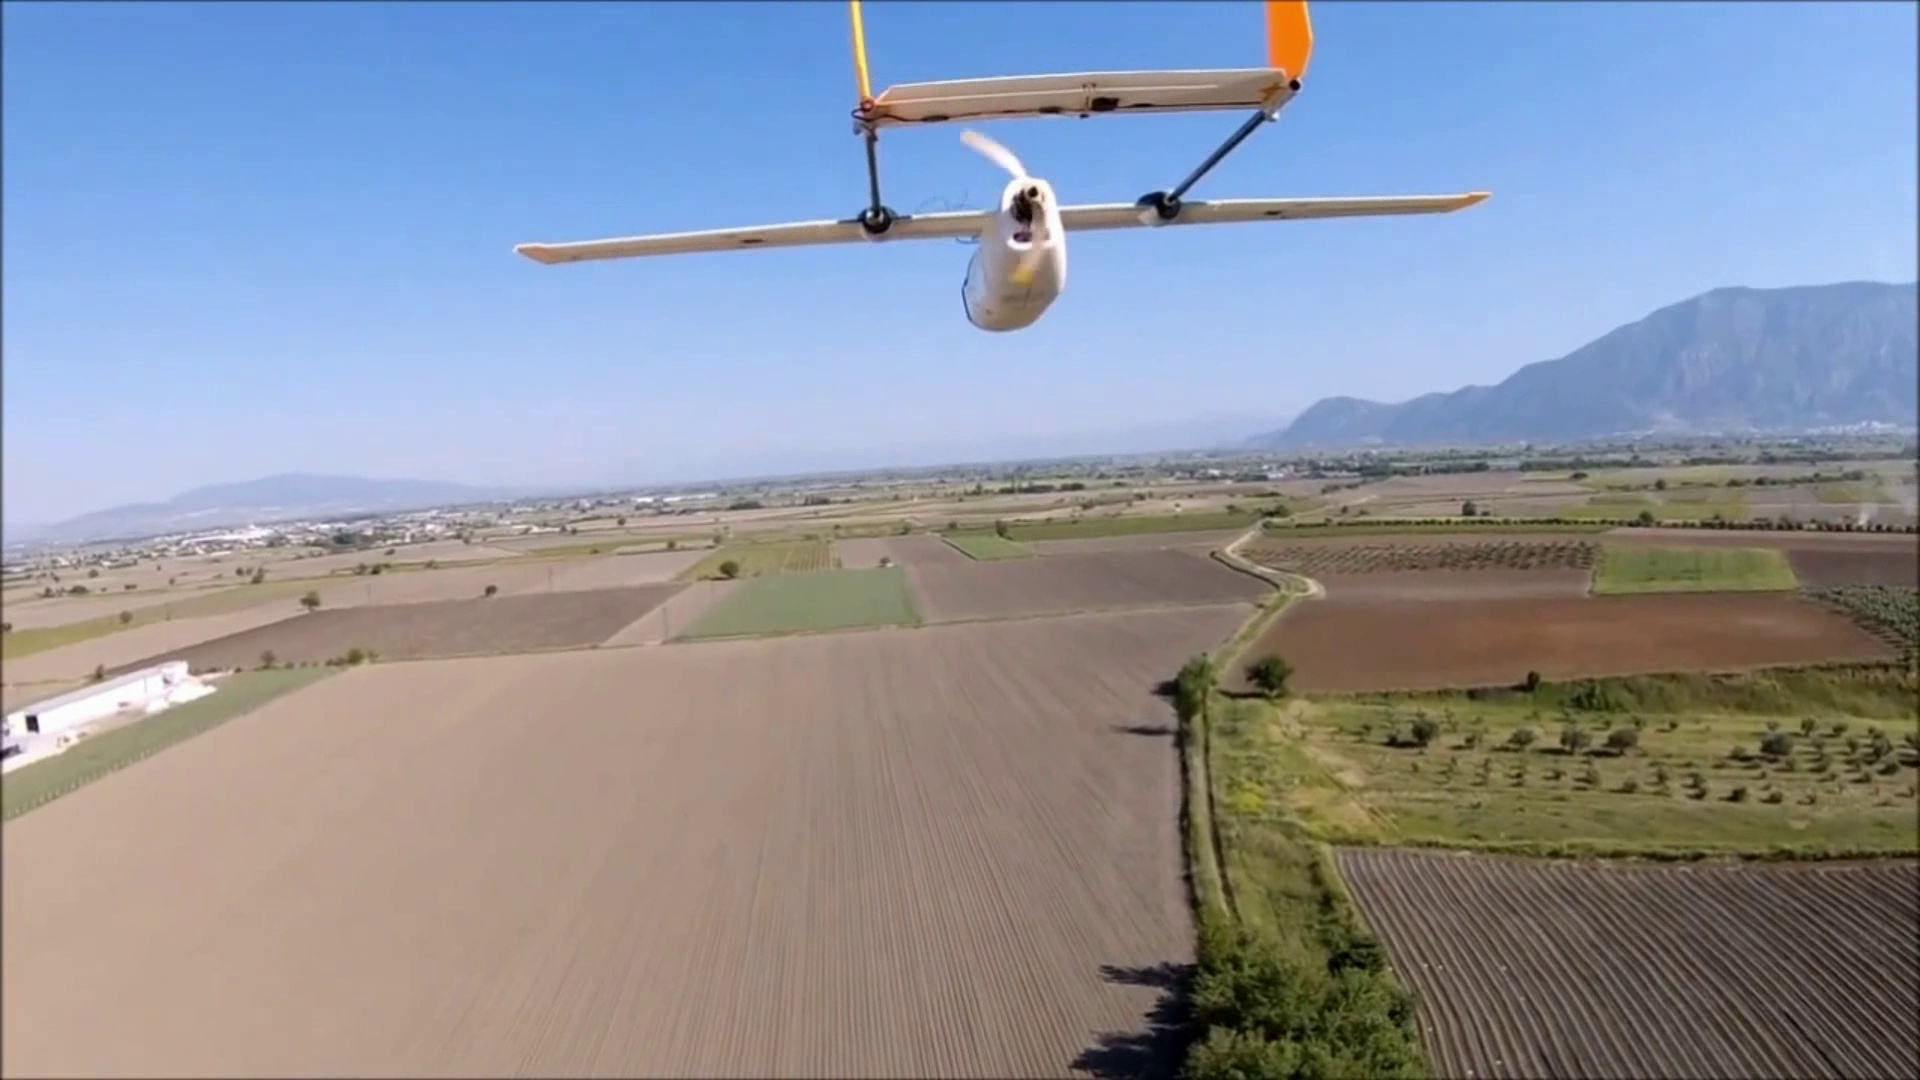airplane: (517, 4, 1493, 334)
